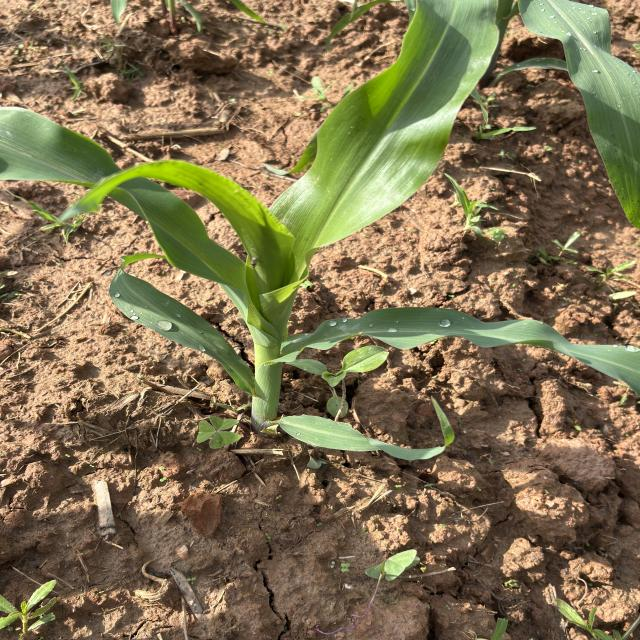maize: (68, 146, 305, 411), (334, 26, 629, 231), (279, 411, 458, 462)
weed: (311, 358, 360, 402), (203, 418, 247, 450)
